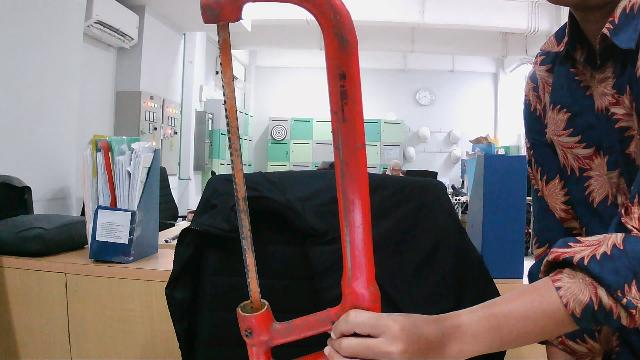gergaji_besi: (185, 1, 400, 360)
